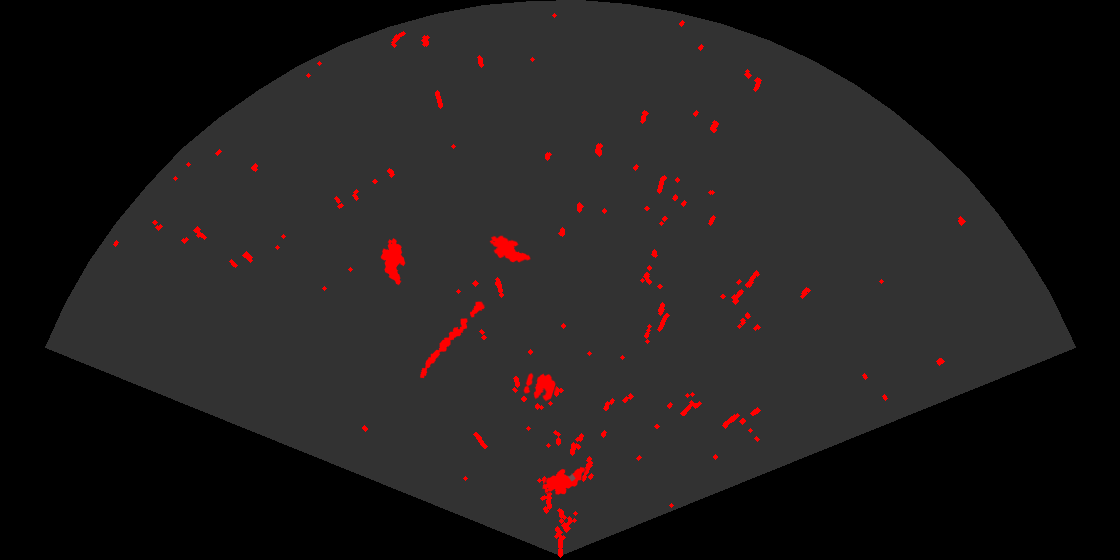AUV: (541, 465, 587, 496), (379, 237, 407, 287), (488, 234, 532, 264)
ball: (522, 371, 558, 403)
chain: (418, 300, 486, 380)
